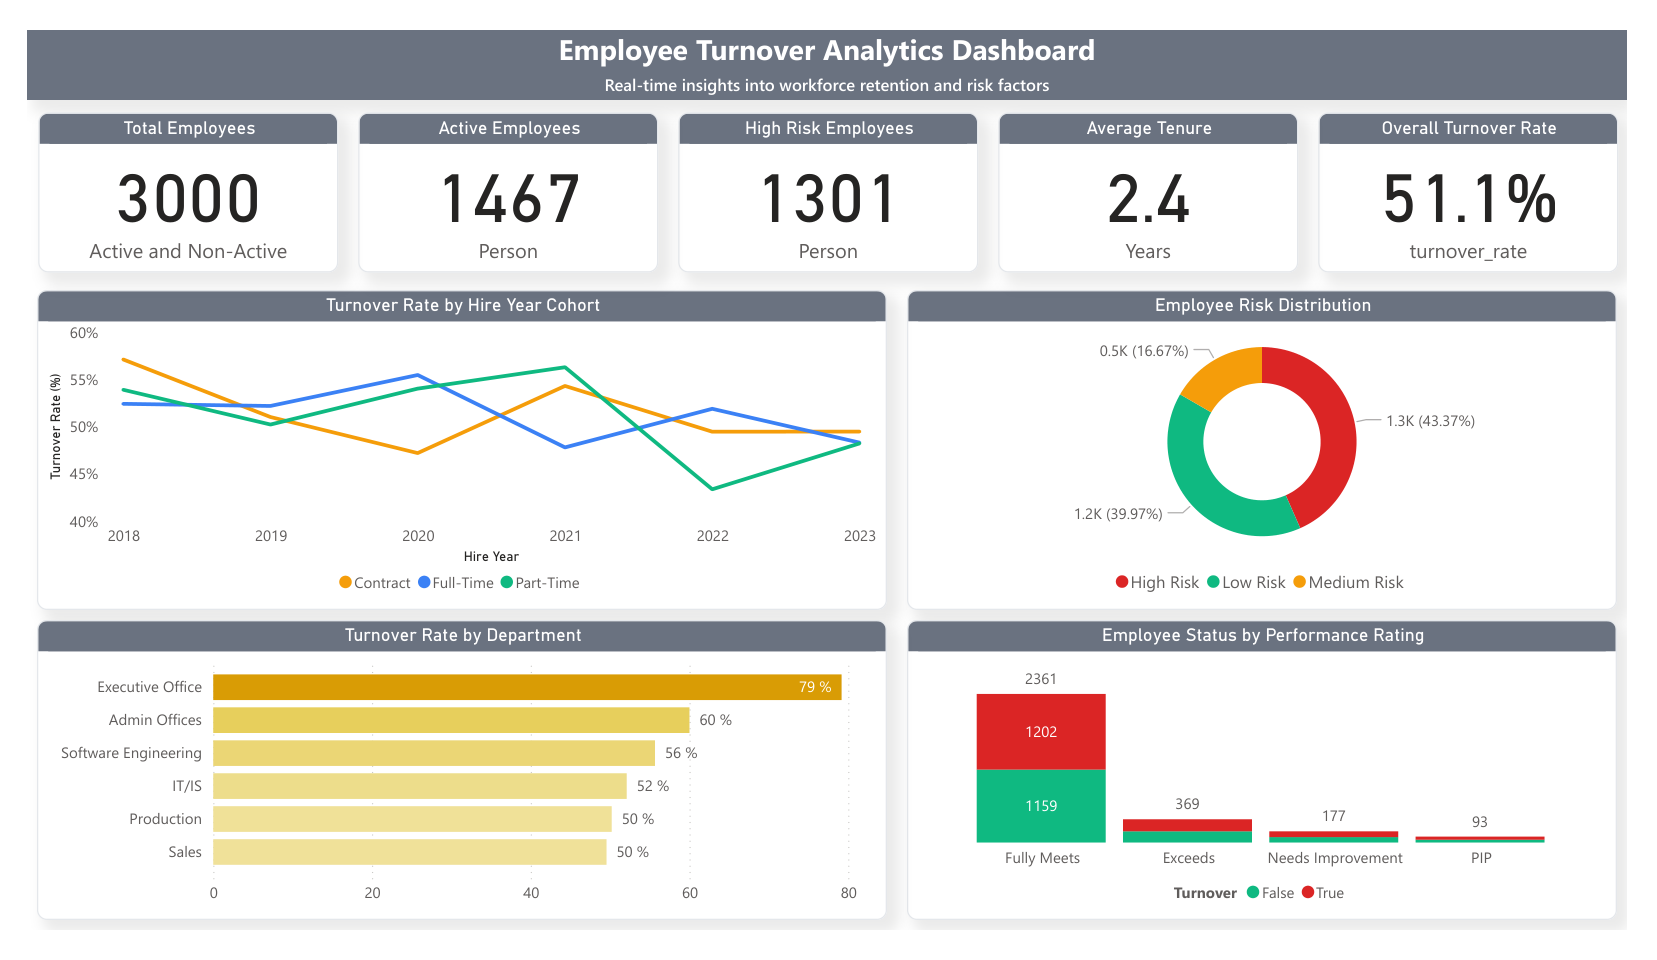

What the dashboard file says about the page in this screenshot:
{"tool":"powerbi","page":{"name":"HR Overview","canvas":[1280,720],"ordinal":0},"visuals":[{"type":"textbox","title":"Employee Turnover Analytics Dashboard","box":[0,0,1280,56],"z":0},{"type":"card","title":"Overall Turnover Rate","fields":{"Values":["public mrt_turnover_analysis.Measure"]},"box":[1033,66,240,128],"z":1000},{"type":"card","title":"High Risk Employees","fields":{"Values":["public mrt_turnover_analysis.high_turnover"]},"box":[521,66,240,128],"z":2000},{"type":"lineChart","title":"Turnover Rate by Hire Year Cohort","fields":{"Category":["public mrt_employee_360.hire_year"],"Series":["public mrt_employee_360.employee_type"],"Y":["public mrt_turnover_analysis.Measure"]},"box":[8,208,680,256],"z":3000},{"type":"donutChart","title":"Employee Risk Distribution","fields":{"Category":["public ml_turnover_predictions.risk_level"],"Y":["CountNonNull(public ml_turnover_predictions.employee_id)"]},"box":[704,208,568,256],"z":4000},{"type":"columnChart","title":"Employee Status by Performance Rating","fields":{"Category":["public mrt_turnover_analysis.performance_score"],"Y":["CountNonNull(public mrt_turnover_analysis.employee_id)"],"Series":["public mrt_turnover_analysis.is_turnover"]},"box":[704,472,568,240],"z":5000},{"type":"barChart","title":"Turnover Rate by Department","fields":{"Category":["public mrt_turnover_analysis.department_type"],"Y":["public mrt_turnover_analysis.Department Turnover Rate"]},"box":[8,472,680,240],"z":6000},{"type":"card","title":"Total Employees","fields":{"Values":["CountNonNull(public mrt_turnover_analysis.employee_id)"]},"box":[9,66,240,128],"z":7000},{"type":"card","title":"Average Tenure","fields":{"Values":["public mrt_turnover_analysis.average_turnover"]},"box":[777,66,240,128],"z":8000},{"type":"card","title":"Active Employees","fields":{"Values":["public mrt_turnover_analysis.active_employee"]},"box":[265,66,240,128],"z":9000}]}

Visuals, with their boxes in screenshot pixels (x1, y1, x2, y2), scaled from the page's 1280x720 canvas onto the 1657x960 screenshot:
"Employee Turnover Analytics Dashboard" textbox: (0, 0, 1656, 75)
"Overall Turnover Rate" card: (1337, 88, 1648, 259)
"High Risk Employees" card: (674, 88, 985, 259)
"Turnover Rate by Hire Year Cohort" lineChart: (10, 277, 891, 619)
"Employee Risk Distribution" donutChart: (911, 277, 1647, 619)
"Employee Status by Performance Rating" columnChart: (911, 629, 1647, 949)
"Turnover Rate by Department" barChart: (10, 629, 891, 949)
"Total Employees" card: (12, 88, 322, 259)
"Average Tenure" card: (1006, 88, 1317, 259)
"Active Employees" card: (343, 88, 654, 259)
